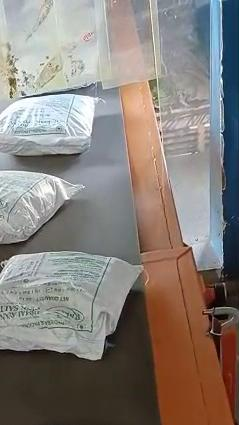box: (0, 252, 142, 360), (0, 171, 83, 244), (0, 94, 97, 156)
